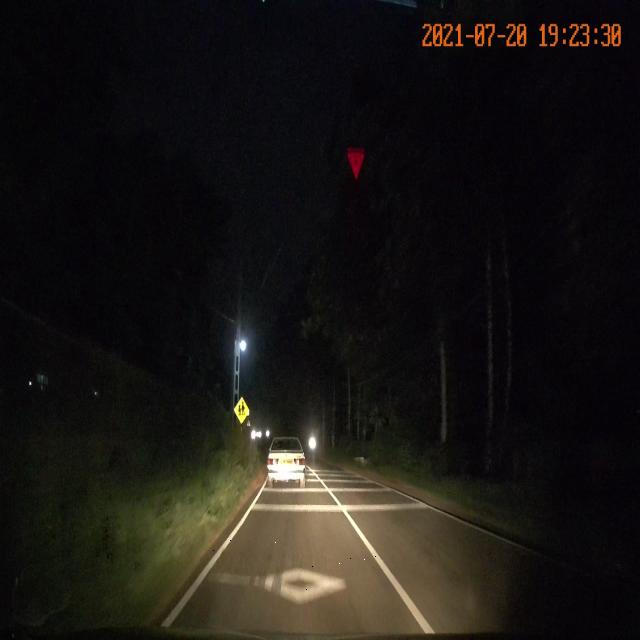diamond: (173, 540, 416, 605)
